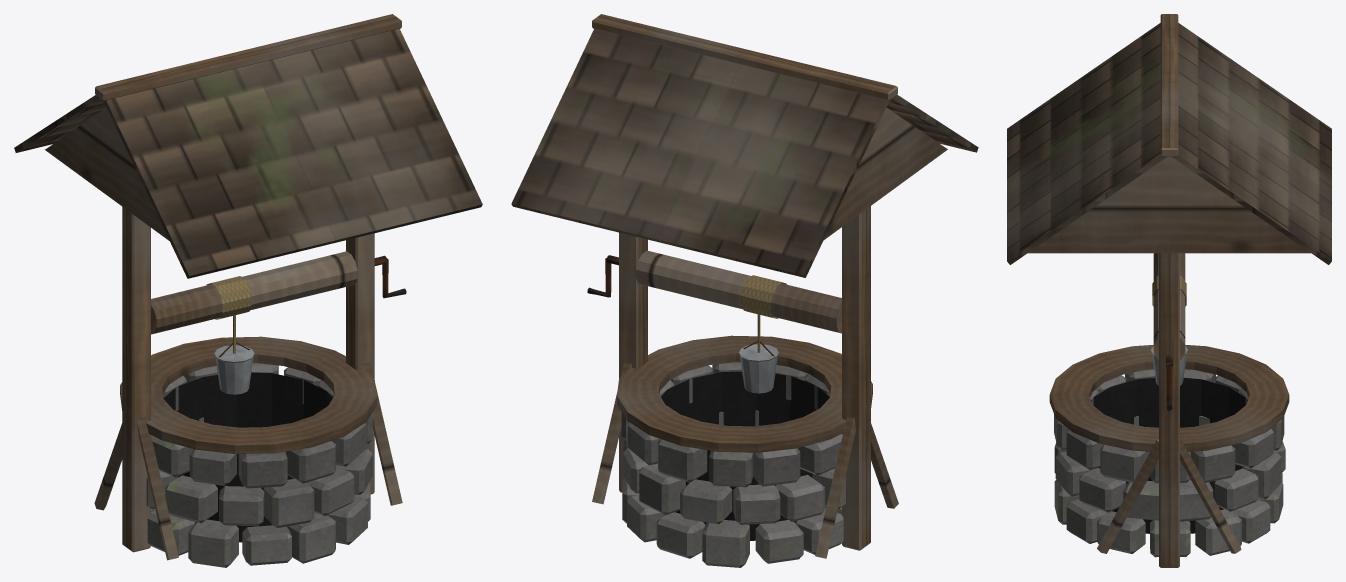
File: pr_well.glb
The picture shows the model from 3 angles, left to right: view 1: azimuth 30°, elevation 25°; view 2: azimuth 150°, elevation 25°; view 3: azimuth 270°, elevation 25°; orthographic projection. The views are drawn at different scales.
Parts seen in each view (by area): view 1: pr_well; view 2: pr_well; view 3: pr_well.
Part boxes in pixels (<box>): pr_well: <box>14,14,482,567</box>; pr_well: <box>511,14,978,567</box>; pr_well: <box>1007,14,1331,567</box>.
Size of the model in its own units: 2.19 by 3.19 by 2.17.
1 material, 1 textured.
